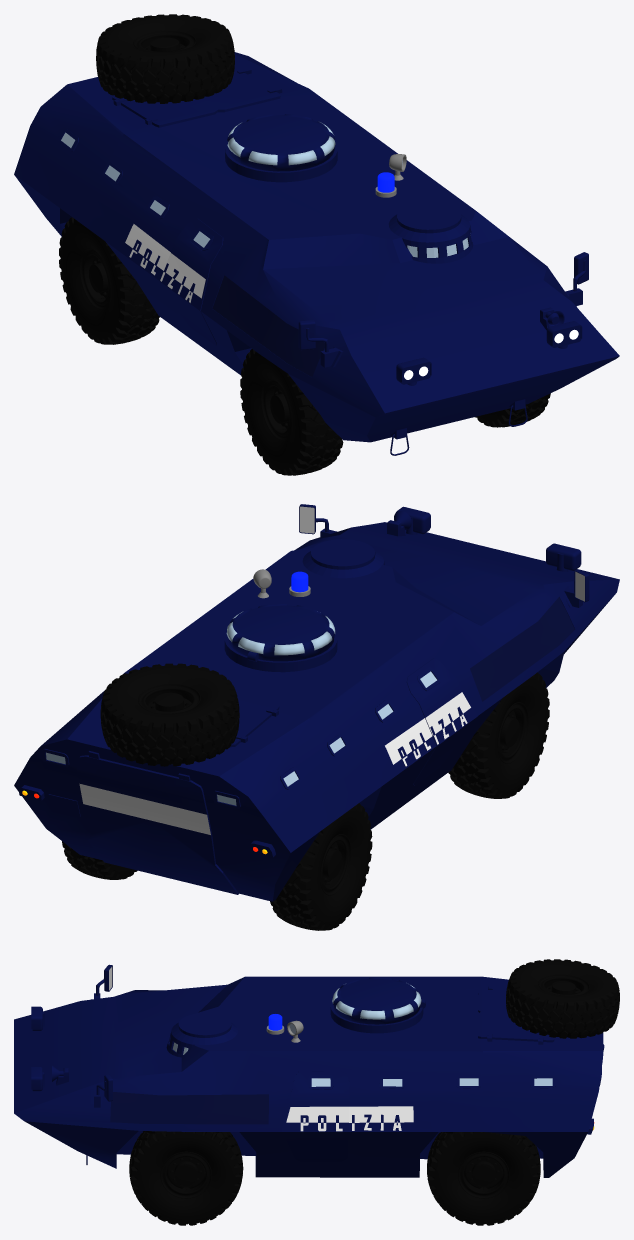
The model's file is car_police.glb.
3 renders of one model, top to bottom at view 1: azimuth 30°, elevation 25°; view 2: azimuth 150°, elevation 25°; view 3: azimuth 270°, elevation 25°, orthographic. The views are drawn at different scales.
Parts seen in each view (by area): view 1: fiat 6614, disk_front.004, disk_front.003, disk_front.005, Cylindre.008, disk_front; view 2: fiat 6614, disk_front.004, disk_front.005, disk_front.003, Cylindre.008, disk_front.002; view 3: fiat 6614, disk_front, disk_front.002, disk_front.004, Cylindre.008.
Part boxes in pixels (x1,y1,x2,y2): fiat 6614: (14,52,619,455); disk_front.004: (96,14,234,103); disk_front.003: (240,349,343,475); disk_front.005: (59,217,159,344); Cylindre.008: (227,114,335,171); disk_front: (475,393,550,427); fiat 6614: (14,504,619,901); disk_front.004: (100,663,239,766); disk_front.005: (270,803,372,930); disk_front.003: (448,672,549,798); Cylindre.008: (226,604,335,661); disk_front.002: (62,841,137,879); fiat 6614: (14,964,604,1177); disk_front: (129,1131,243,1225); disk_front.002: (427,1132,540,1225); disk_front.004: (506,959,619,1038); Cylindre.008: (332,977,421,1024).
Size of the model in its own units: 1.9 by 1.54 by 4.21.
